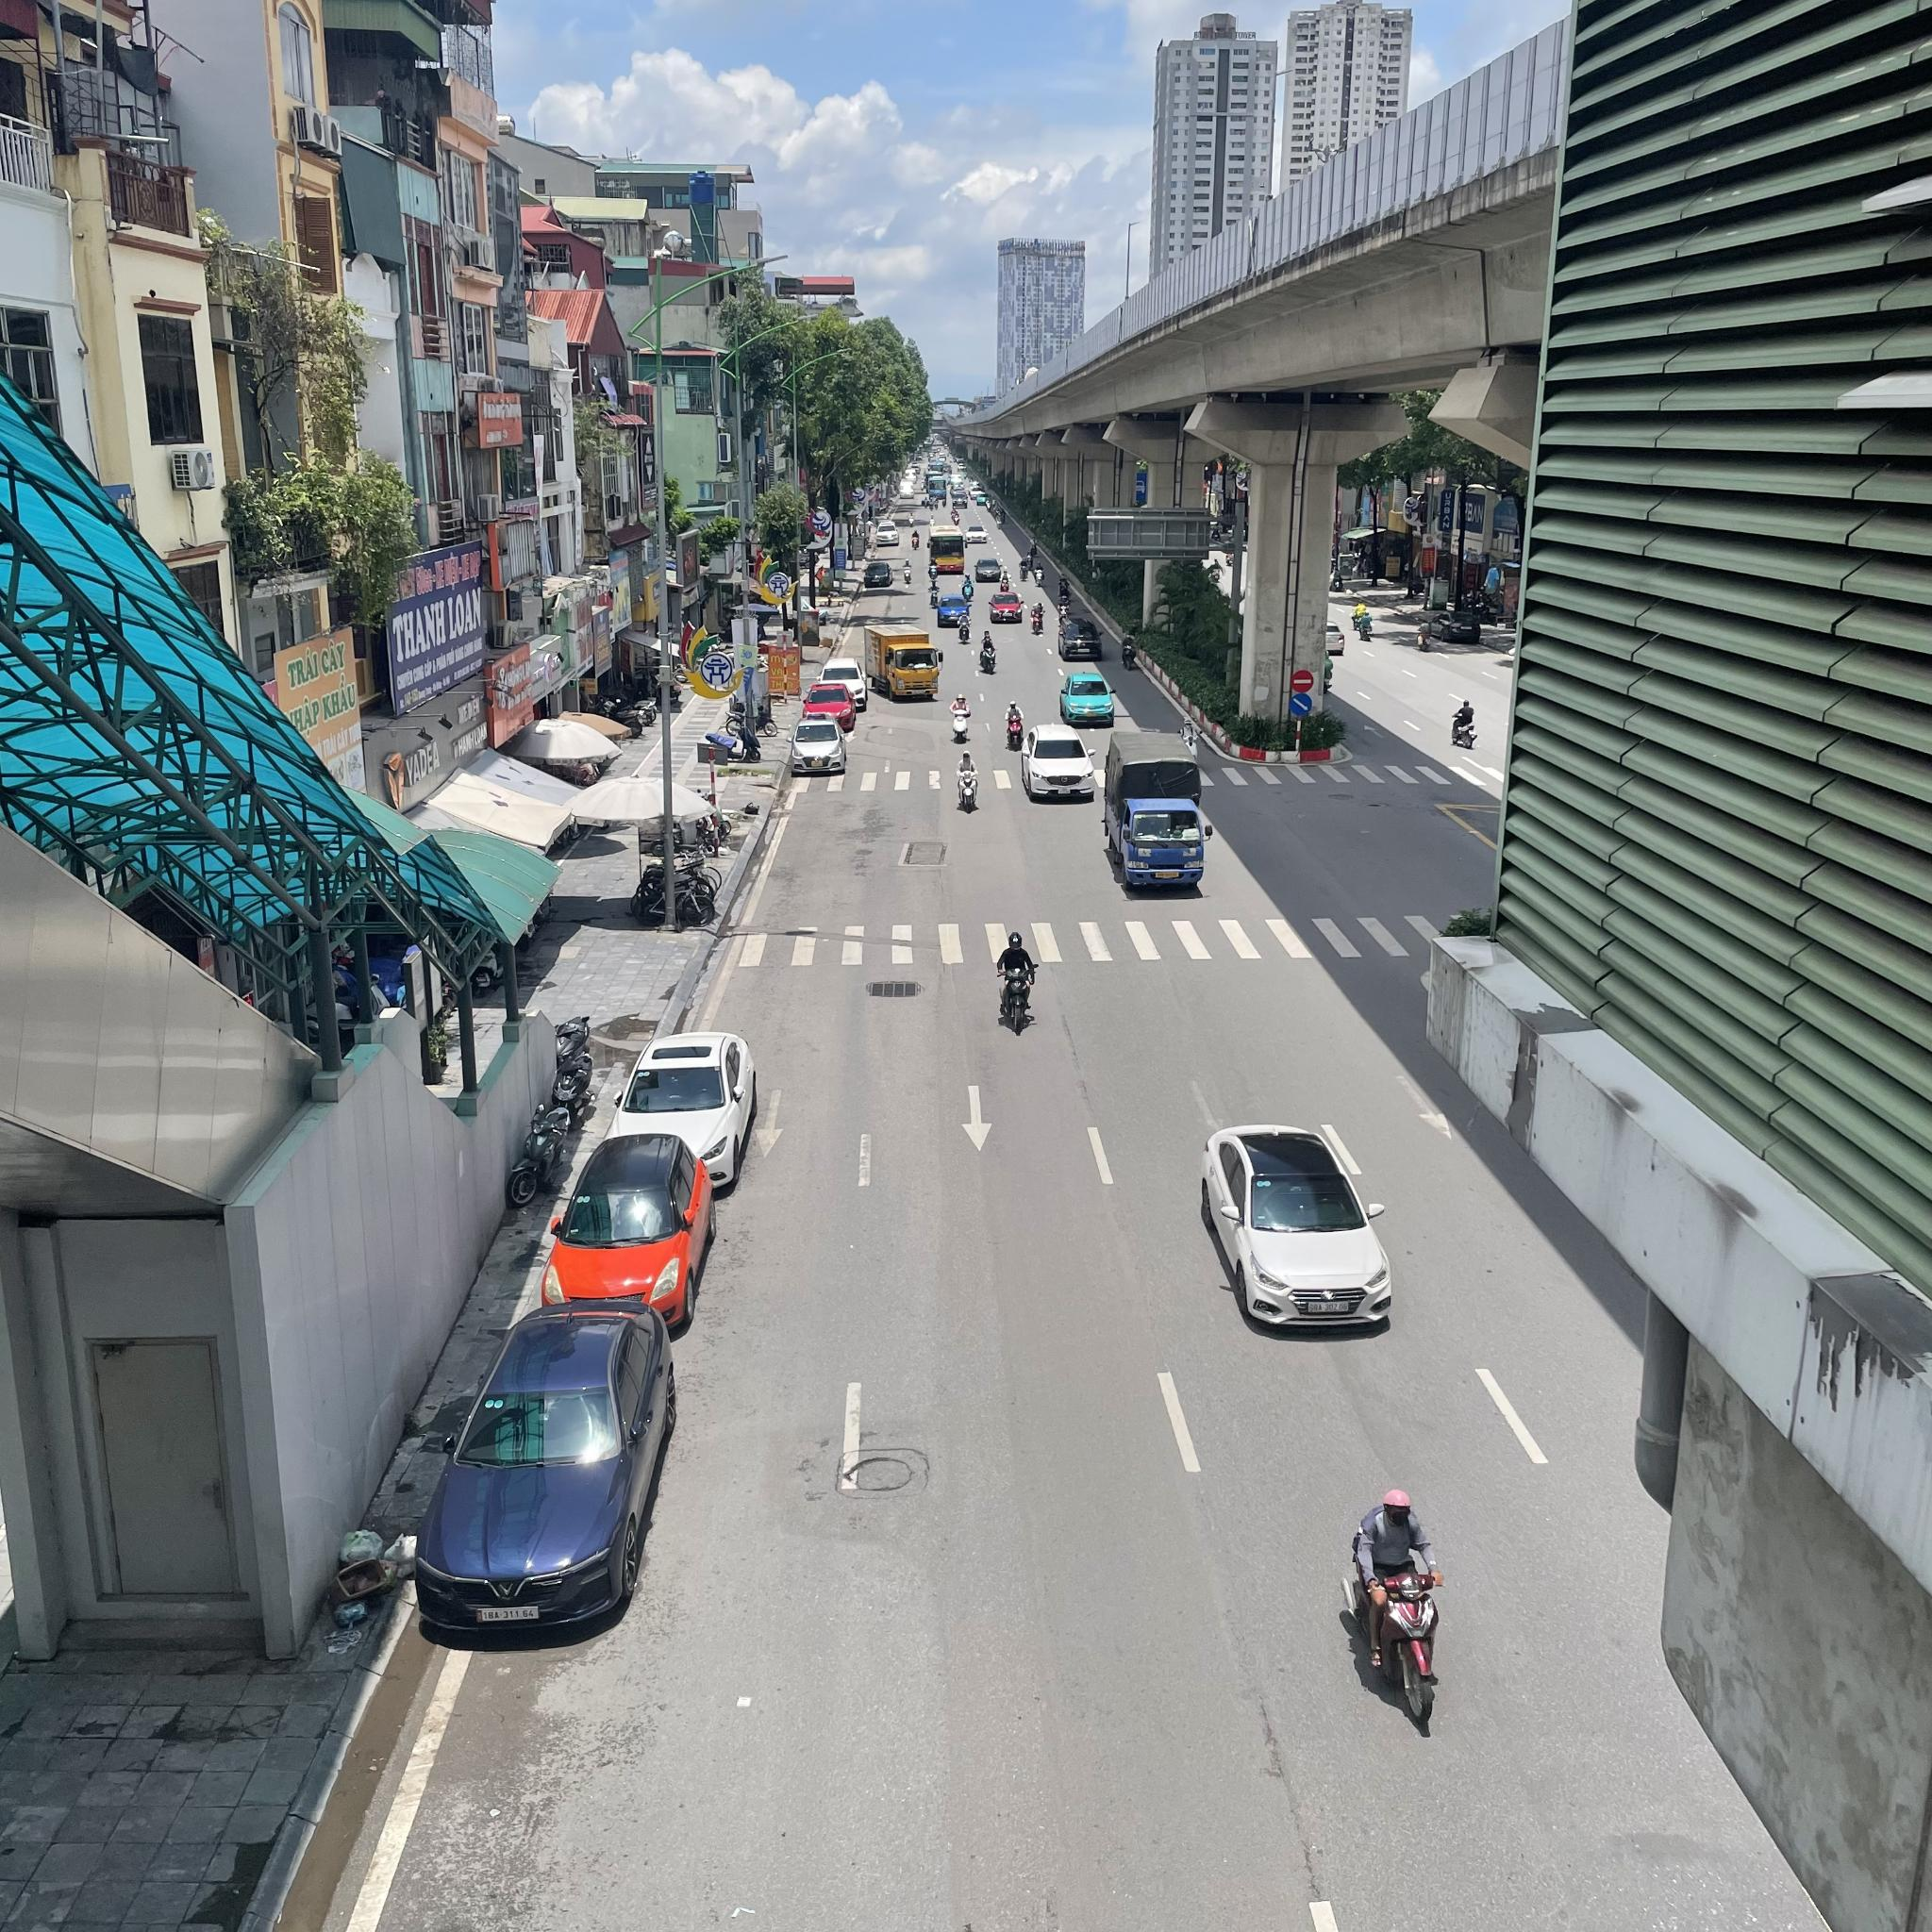car: (417, 1297, 678, 1650), (1194, 1123, 1396, 1336), (545, 1131, 709, 1329), (620, 1034, 758, 1186), (1104, 732, 1207, 892), (1026, 724, 1095, 810), (865, 621, 939, 697), (1060, 674, 1119, 730), (791, 718, 848, 774), (804, 681, 858, 734), (823, 657, 867, 708), (1052, 619, 1103, 662), (926, 525, 965, 577), (990, 592, 1026, 625), (934, 594, 971, 625), (976, 557, 1004, 585), (864, 561, 892, 587), (873, 520, 898, 547), (968, 524, 990, 545)
motobike: (1332, 1488, 1450, 1740), (991, 930, 1044, 1039), (958, 751, 978, 808), (1182, 718, 1202, 765), (1006, 708, 1025, 749), (952, 695, 968, 741), (980, 633, 998, 671), (1056, 594, 1074, 624), (1122, 633, 1135, 670), (958, 609, 973, 643), (1032, 602, 1045, 637), (960, 573, 977, 597), (1017, 557, 1030, 585), (927, 578, 941, 605), (926, 558, 941, 584), (1033, 563, 1048, 588), (902, 559, 912, 589), (1056, 574, 1068, 598), (1000, 571, 1010, 594)
